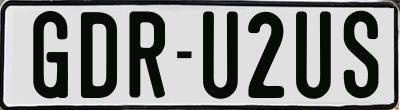2: (247, 11, 288, 101)
D: (79, 11, 116, 102)
G: (31, 9, 68, 99)
R: (129, 10, 170, 102)
S: (343, 9, 381, 101)
U: (201, 10, 241, 102), (294, 11, 333, 103)
